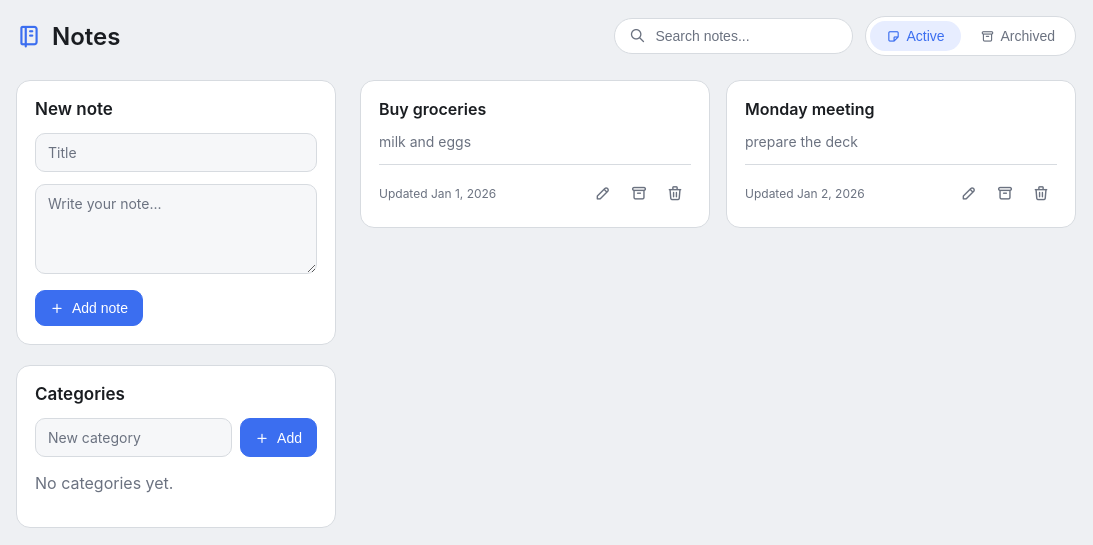
Test case: App search › filters the visible notes as the user types
The image size is (1093, 545).
Expected: the heading "Buy groceries" is shown, top-left (379, 99), bottom-right (486, 119)
Type "monday" into the field labelled "Search notes" at (746, 36), box top-left (653, 27), bottom-right (838, 45)
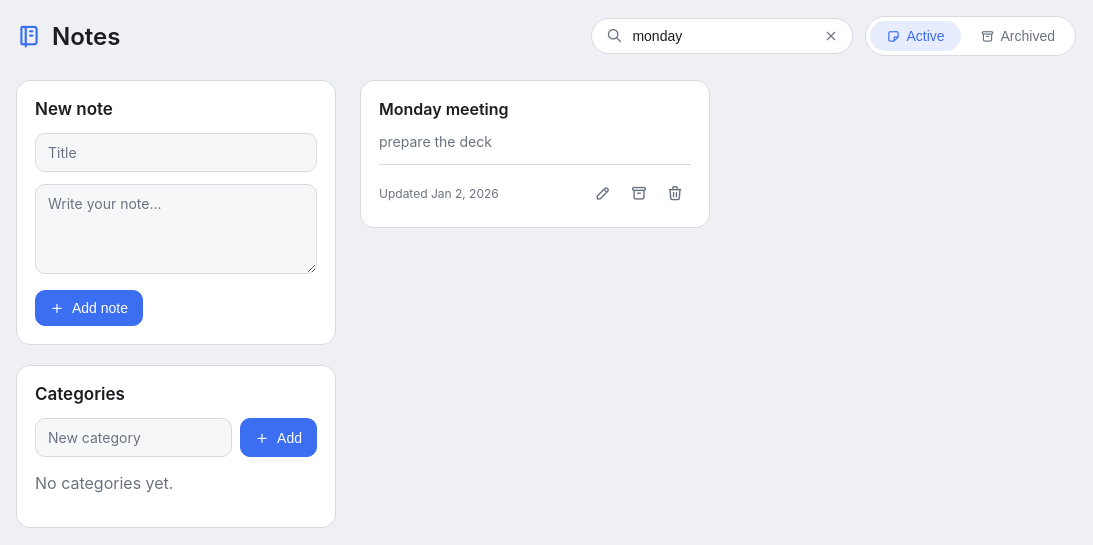
Expected: the heading "Monday meeting" is shown, top-left (379, 99), bottom-right (509, 119)
Expected: the heading "Buy groceries" is gone
